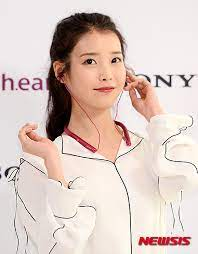earphone: (53, 61, 67, 84)
